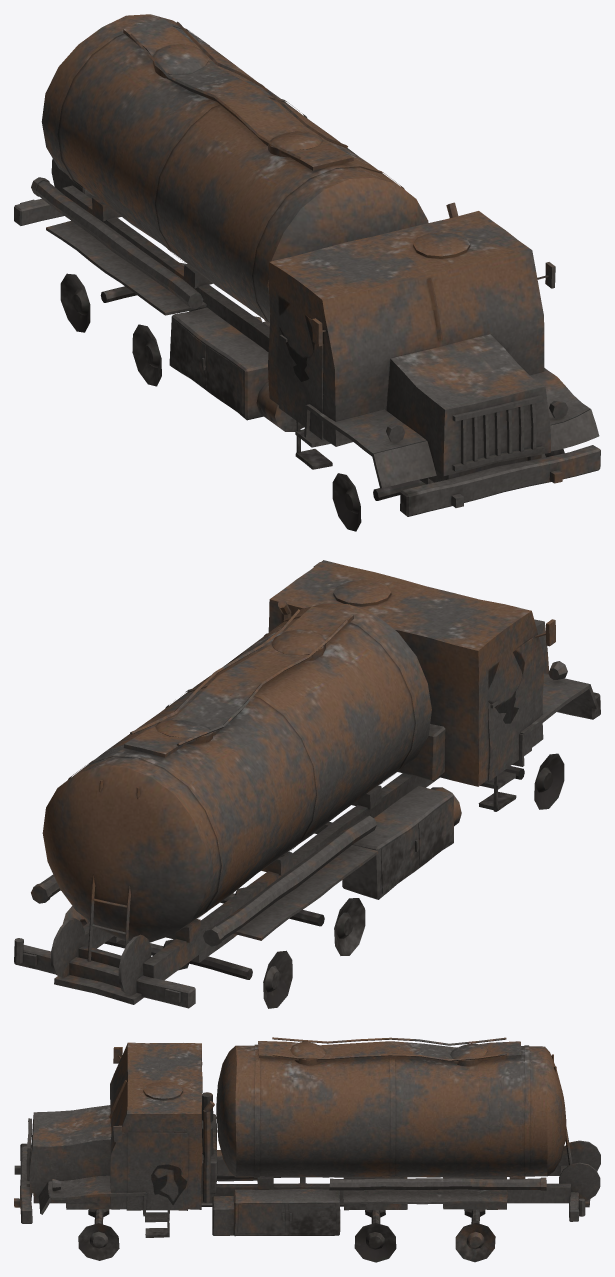
File: Wreck_Tanker.fbx
The picture shows the model from 3 angles, top to bottom: view 1: azimuth 30°, elevation 25°; view 2: azimuth 150°, elevation 25°; view 3: azimuth 270°, elevation 25°; orthographic projection. The views are drawn at different scales.
Parts seen in each view (by area): view 1: Wreck_Tanker_Mesh; view 2: Wreck_Tanker_Mesh; view 3: Wreck_Tanker_Mesh.
Part boxes in pixels (box(x1,y1,x2,y2)): Wreck_Tanker_Mesh: box(14, 14, 600, 531); Wreck_Tanker_Mesh: box(14, 560, 600, 1008); Wreck_Tanker_Mesh: box(14, 1037, 600, 1262).
Size of the model in its own units: 2.67 by 2.84 by 8.27.
